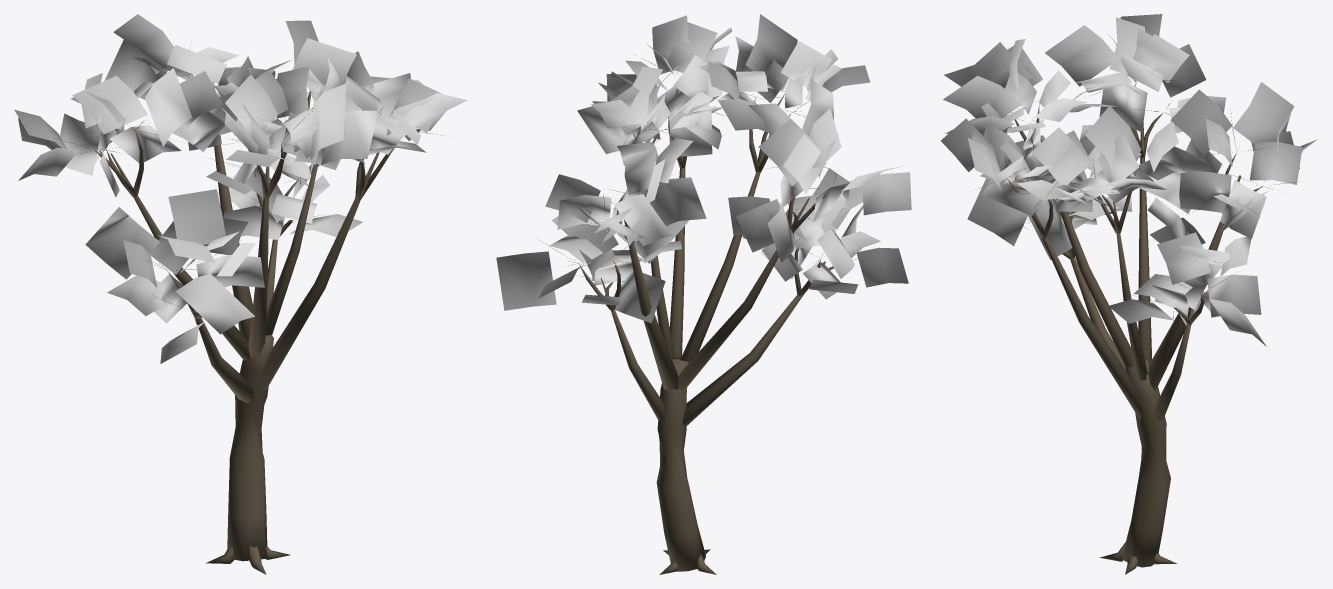
The model's file is V7_CheneVert_2_Niveau2.fbx.
3 renders of one model, left to right at view 1: azimuth 30°, elevation 25°; view 2: azimuth 150°, elevation 25°; view 3: azimuth 270°, elevation 25°, orthographic. The views are drawn at different scales.
Parts seen in each view (by area): view 1: V7_CheneVert_2_Detail2; view 2: V7_CheneVert_2_Detail2; view 3: V7_CheneVert_2_Detail2.
Boxes of the visible parts, x1,y1,x2,y2 form: V7_CheneVert_2_Detail2: [14, 14, 467, 574]; V7_CheneVert_2_Detail2: [496, 14, 911, 574]; V7_CheneVert_2_Detail2: [940, 14, 1317, 574].
Size of the model in its own units: 633 by 848 by 585.
